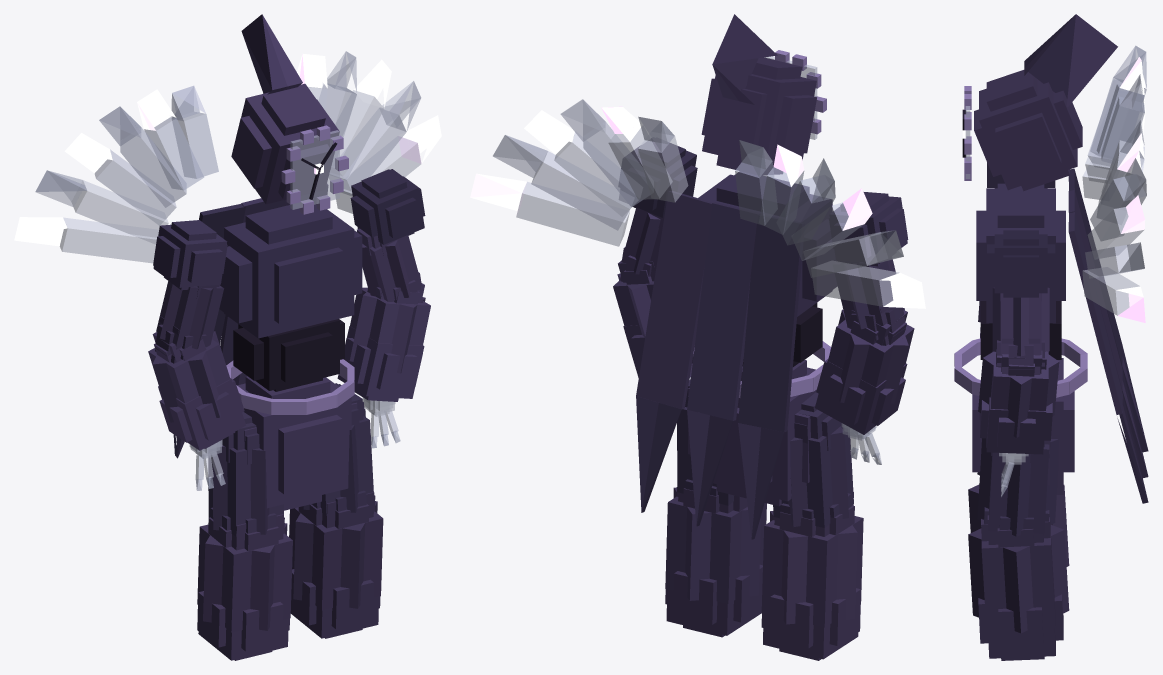
3 views of the same model, side by side, from view 1: azimuth 30°, elevation 25°; view 2: azimuth 150°, elevation 25°; view 3: azimuth 270°, elevation 25° (orthographic). The views are drawn at different scales.
Visible parts, largest first — view 1: MirrorShade; view 2: MirrorShade; view 3: MirrorShade.
Part boxes in pixels (x1,y1,x2,y2): MirrorShade: [14, 14, 441, 660]; MirrorShade: [470, 14, 925, 660]; MirrorShade: [954, 14, 1148, 660].
Size of the model in its own units: 1.17 by 1.57 by 0.4501.
